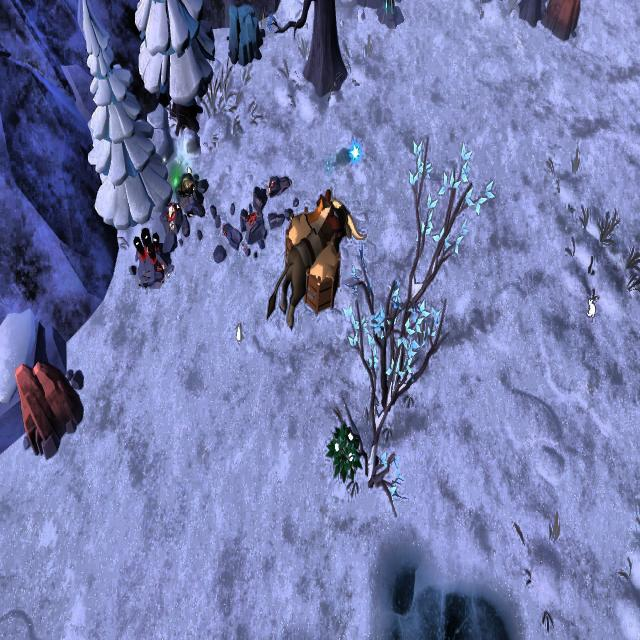fiber_t3: (326, 422, 362, 482)
ore_t4: (380, 0, 397, 21)
ore_t5: (134, 224, 164, 264)
rock_t4: (224, 3, 266, 70)
rock_t5: (542, 0, 584, 47)
